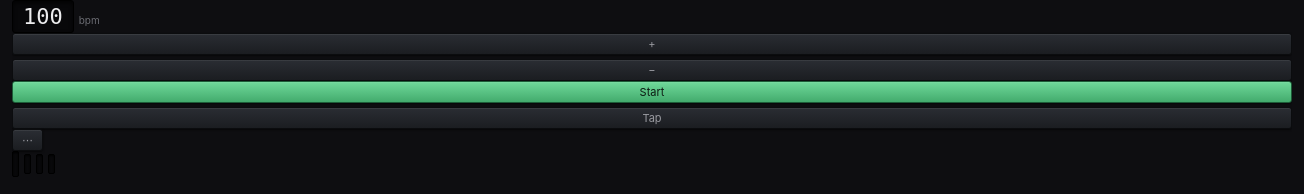
Test: the controls › says what pressing it will do
This screenshot has width=1304, height=194.
What coordinates should you click on to do the following:
click the button "Start"
I would click on:
 (652, 92)
Its box is [12, 81, 1292, 103].
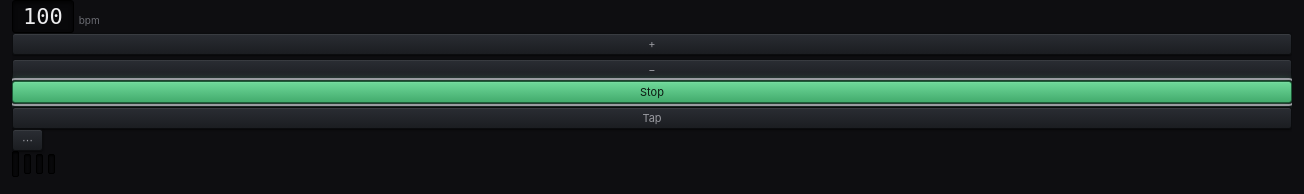
Expected: the button "Stop" is shown, [12, 81, 1292, 103]
